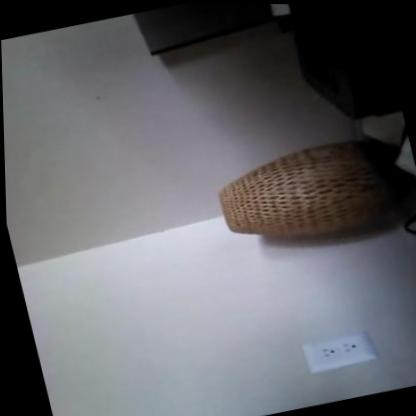OUTLET: (300, 329, 376, 374)
